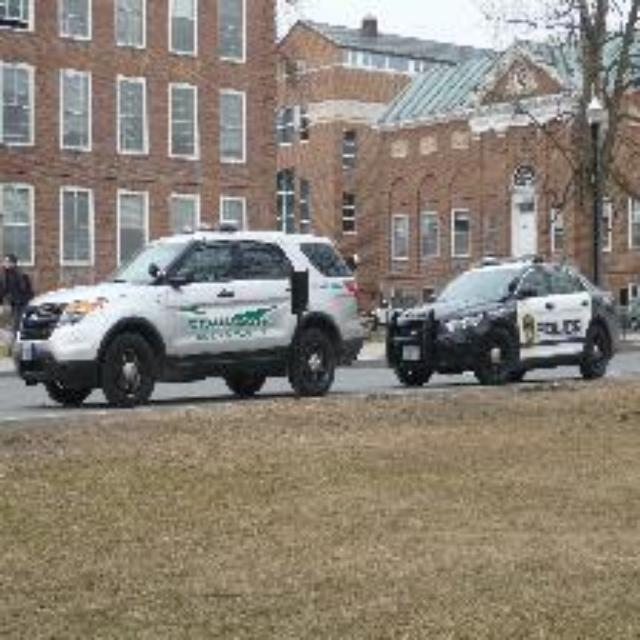emergency: (36, 210, 356, 404), (375, 255, 617, 377)
